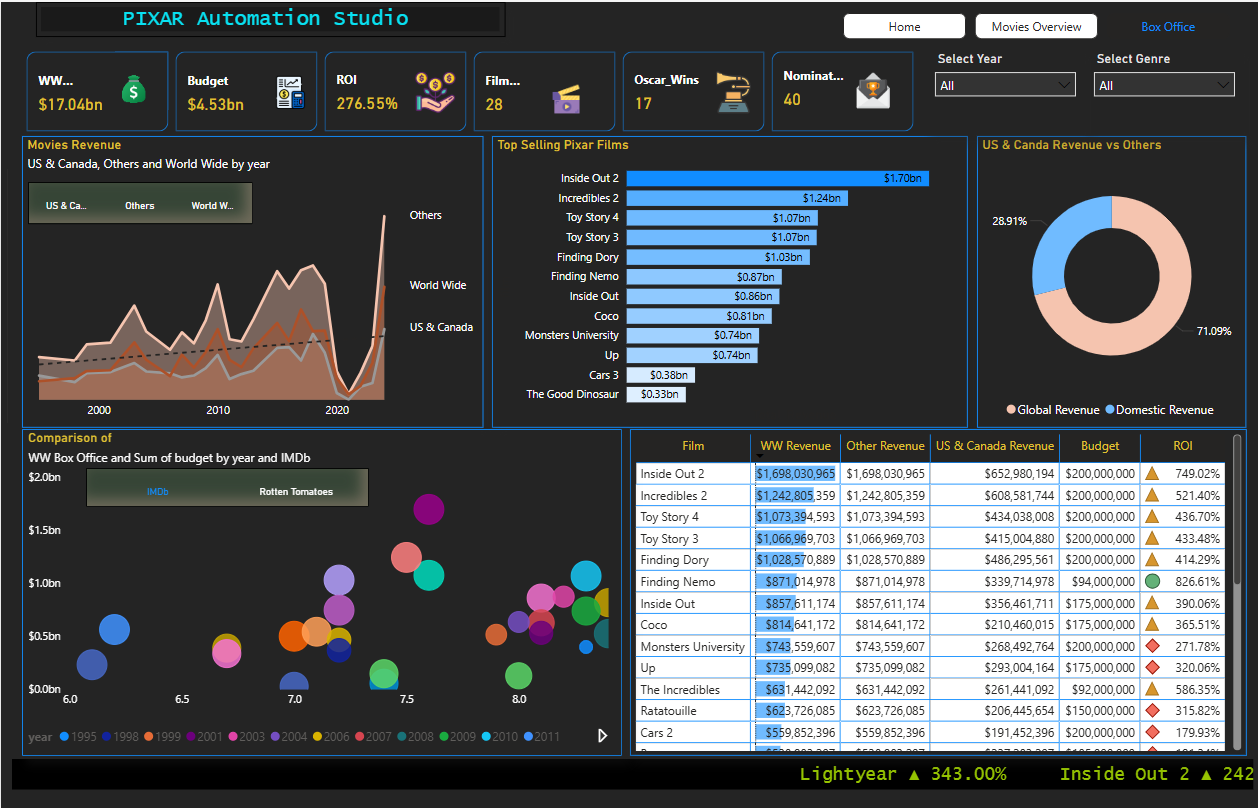

This screenshot's page, from the dashboard's own definition file:
{"tool":"powerbi","page":{"name":"Box Office","canvas":[1400,900],"ordinal":2},"visuals":[{"type":"ScrollingTextVisual1448795304508","fields":{"Measure Absolute":["Sum(box_office.run_time)"]},"box":[39.3,0,522.7,39.3],"z":0},{"type":"ScrollingTextVisual1448795304508","fields":{"Category":["box_office.film"],"Measure Deviation":["_measures.Revenue_Growth_Percent"]},"box":[7.4,839.3,1392.6,44.2],"z":1000},{"type":"cardVisual","fields":{"Data":["_measures.Total_Revenue","_measures.Total Budget","_measures.ROI","_measures.Total Pixar film Released","_measures.Oscar_Wins","_measures.Oscar_Nominations"]},"box":[23.3,50.3,998.8,99.4],"z":2000},{"type":"areaChart","title":"Movies Revenue","fields":{"Y":["_measures.Domestic Revenue","_measures.Global Revenue","_measures.International Revenue"],"Category":["tblCalendar.year Hierarchy.year","tblCalendar.year Hierarchy.Quarter","tblCalendar.year Hierarchy.MonthName","tblCalendar.year Hierarchy.day","tblCalendar.year Hierarchy.Date"]},"box":[23.3,149.6,514.3,324.8],"z":3000,"group":"g1"},{"type":"clusteredBarChart","title":"Top Selling Pixar Films","fields":{"Category":["box_office.film"],"Y":["_measures.Total_Revenue"]},"box":[546.4,149.6,529.8,324.8],"z":4000},{"type":"donutChart","title":"US & Canda Revenue vs Others","fields":{"Y":["_measures.Global Revenue","_measures.Domestic Revenue"]},"box":[1087.3,149.6,300.4,324.8],"z":5000},{"type":"advancedSlicerVisual","fields":{"Values":["Parameter.Parameter"]},"box":[30,200.6,250.5,46.6],"z":6000,"group":"g1"},{"type":"scatterChart","title":"Comparison of","fields":{"X":["box_office.imdb_score"],"Y":["Sum(box_office.box_office_worldwide)"],"Series":["tblCalendar.year"],"Size":["Sum(box_office.budget)"]},"box":[23.3,475.5,668.3,363.5],"z":7000,"group":"g2"},{"type":"tableEx","title":"Box Office Performance vs IMDb Score","fields":{"Values":["box_office.film","_measures.Total_Revenue","_measures.Global Revenue","_measures.Domestic Revenue","_measures.Total Budget","_measures.ROI"]},"box":[700.5,475.5,687.2,363.5],"z":8000},{"type":"advancedSlicerVisual","fields":{"Values":["Parameter2.Parameter2"]},"box":[94.2,518.7,314.8,43.2],"z":9000,"group":"g2"},{"type":"slicer","fields":{"Values":["tblCalendar.year"]},"box":[1030.7,50.3,176.7,99.4],"z":10000},{"type":"slicer","fields":{"Values":["genres.value"]},"box":[1207.4,50.3,176.7,99.4],"z":11000},{"type":"pageNavigator","box":[937.4,12.3,431.9,29.4],"z":12000},{"type":"group","id":"g1","title":"Group 1","box":[23.3,149.6,514.3,324.8],"z":12001},{"type":"group","id":"g2","title":"Group 2","box":[23.3,475.5,668.3,363.5],"z":12002}]}

Visuals, with their boxes in screenshot pixels (x1, y1, x2, y2), scaled from the page's 1400x900 canvas onto the 1258x808 screenshot:
ScrollingTextVisual1448795304508 - Sum(box_office.run_time): left=35, top=0, right=505, bottom=35
ScrollingTextVisual1448795304508 - box_office.film x _measures.Revenue_Growth_Percent: left=7, top=754, right=1257, bottom=793
cardVisual - _measures.Total_Revenue x _measures.Total Budget: left=21, top=45, right=918, bottom=134
"Movies Revenue" areaChart: left=21, top=134, right=483, bottom=426
"Top Selling Pixar Films" clusteredBarChart: left=491, top=134, right=967, bottom=426
"US & Canda Revenue vs Others" donutChart: left=977, top=134, right=1247, bottom=426
advancedSlicerVisual - Parameter.Parameter: left=27, top=180, right=252, bottom=222
"Comparison of" scatterChart: left=21, top=427, right=621, bottom=753
"Box Office Performance vs IMDb Score" tableEx: left=629, top=427, right=1247, bottom=753
advancedSlicerVisual - Parameter2.Parameter2: left=85, top=466, right=368, bottom=504
slicer - tblCalendar.year: left=926, top=45, right=1085, bottom=134
slicer - genres.value: left=1085, top=45, right=1244, bottom=134
pageNavigator: left=842, top=11, right=1230, bottom=37
"Group 1" group: left=21, top=134, right=483, bottom=426
"Group 2" group: left=21, top=427, right=621, bottom=753
